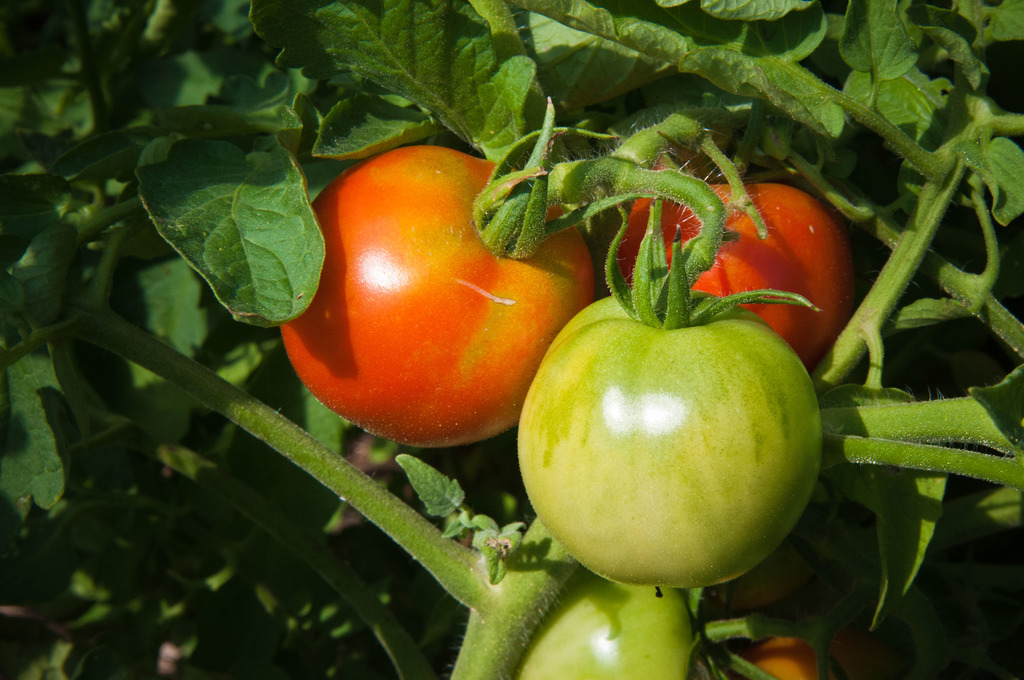Tomato: (291, 140, 608, 457), (513, 284, 810, 591), (604, 174, 876, 355), (701, 549, 899, 679), (515, 580, 714, 679)
